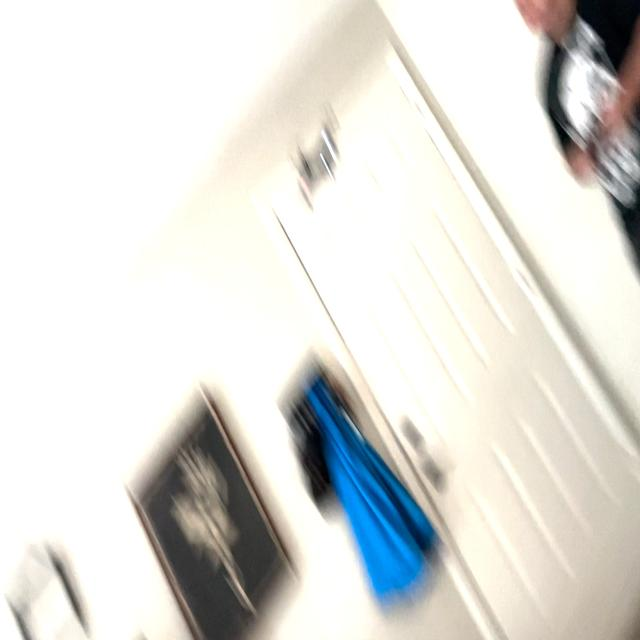drone: (281, 80, 350, 220)
